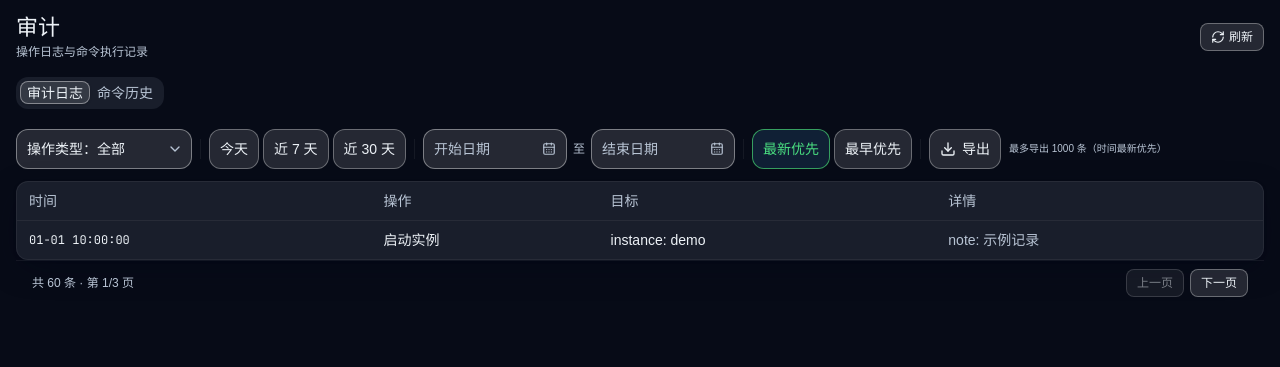
Test: 自定义起止与倒置防护 › start > end：可见提示（role=alert）+ 时间参数暂停透传（不静默空结果）
Type "2026-02-10" into the field labelled "开始日期". click: (495, 149)
box: [423, 129, 567, 169]
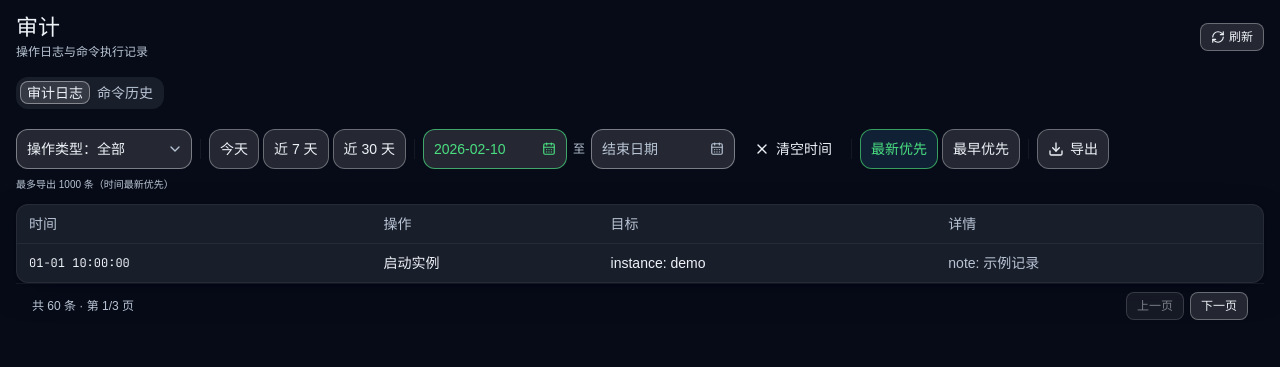
Type "2026-02-01" into the field labelled "结束日期". click: (663, 149)
box: [591, 129, 735, 169]
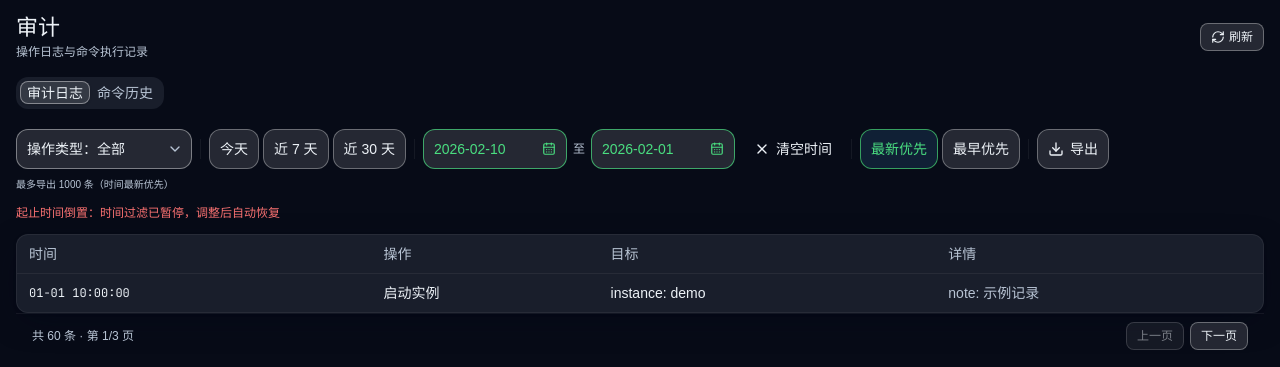
Check: the message shows "起止时间倒置", box [16, 206, 280, 220]
修正后自动恢复过滤
Replace the text in the field named "开始日期" with "2026-01-05". click: (495, 149)
box: [423, 129, 567, 169]
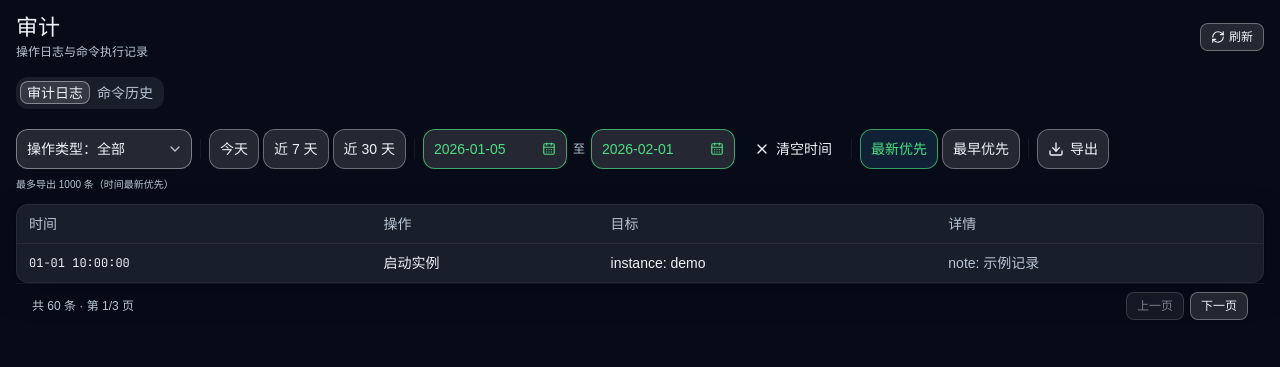
Check: the message "起止时间倒置：时间过滤已暂停，调整后自动恢复" is gone
